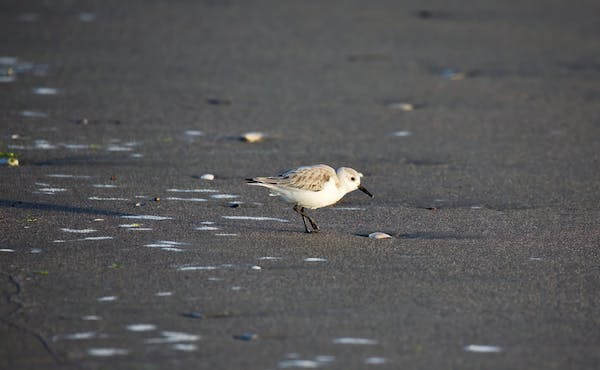Walking: (226, 140, 394, 245)
